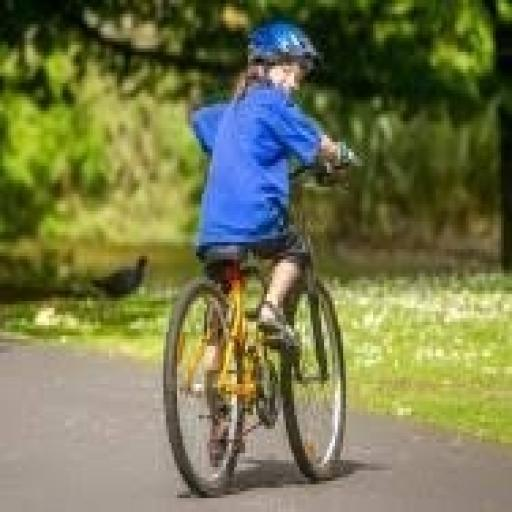cycling: (185, 18, 357, 470)
